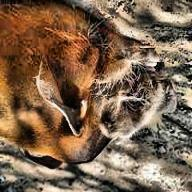boar: (0, 1, 172, 184)
